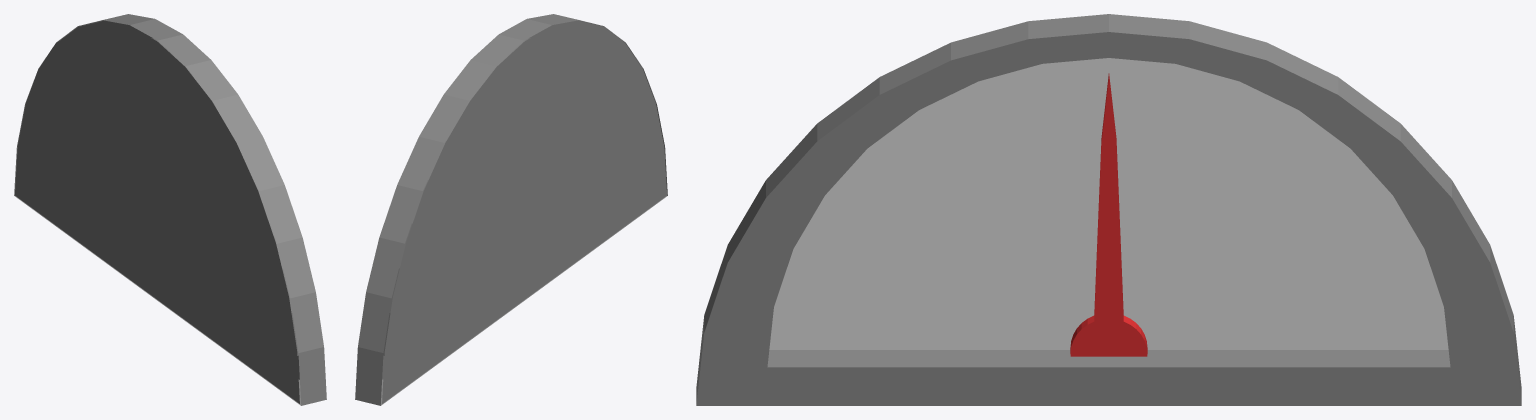
Rendered from Gauge.fbx.
3 renders of one model, left to right at view 1: azimuth 30°, elevation 25°; view 2: azimuth 150°, elevation 25°; view 3: azimuth 270°, elevation 25°, orthographic. The views are drawn at different scales.
Parts seen in each view (by area): view 1: Cylinder.001; view 2: Cylinder.001; view 3: Cylinder.001, Cylinder.
Part boxes in pixels (x1,y1,x2,y2): Cylinder.001: [14, 14, 326, 405]; Cylinder.001: [355, 14, 667, 405]; Cylinder.001: [696, 14, 1521, 405]; Cylinder: [1070, 73, 1147, 356].
Size of the model in its own units: 12.58 by 121 by 242.
